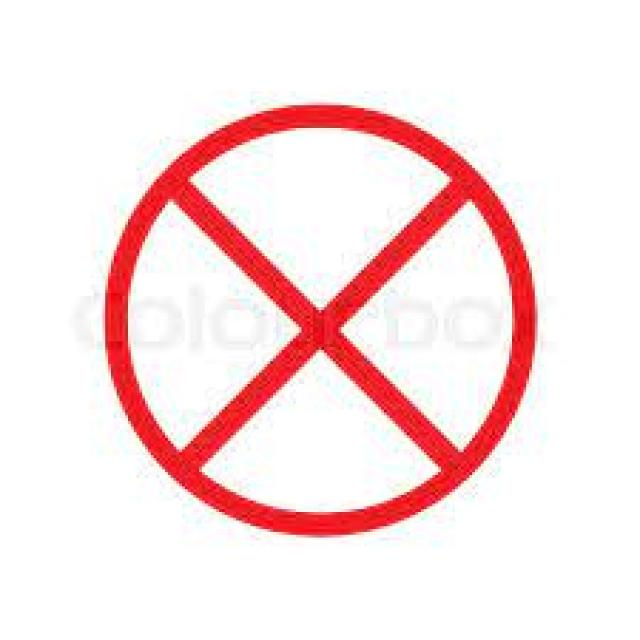NO_STOPPING_OR_STANDING: (96, 102, 538, 540)
